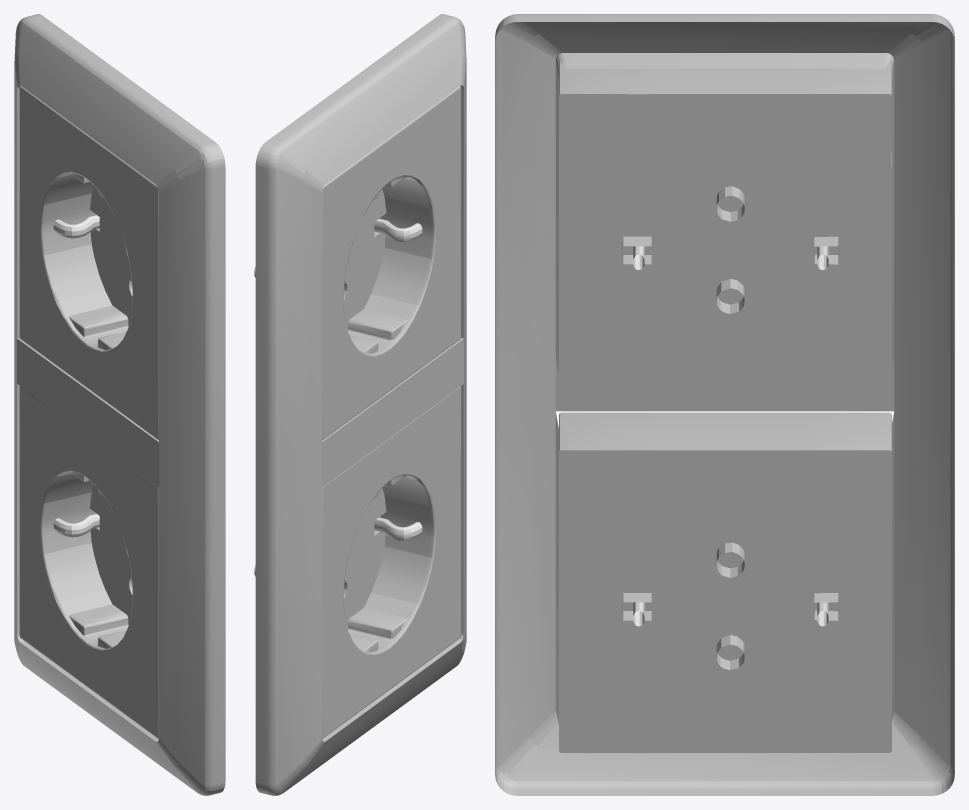
File: SM_Socket_006.obj
3 renders of one model, left to right at view 1: azimuth 30°, elevation 25°; view 2: azimuth 150°, elevation 25°; view 3: azimuth 270°, elevation 25°, orthographic. The views are drawn at different scales.
Parts seen in each view (by area): view 1: SM_Socket_006; view 2: SM_Socket_006; view 3: SM_Socket_006.
Boxes of the visible parts, x1,y1,x2,y2 form: SM_Socket_006: (14,14,225,795); SM_Socket_006: (254,14,466,795); SM_Socket_006: (495,14,954,795).
Bounding box in the file's own units: 0.023 × 0.1496 × 0.0805.
Materials: 2 (1 with a texture image).
